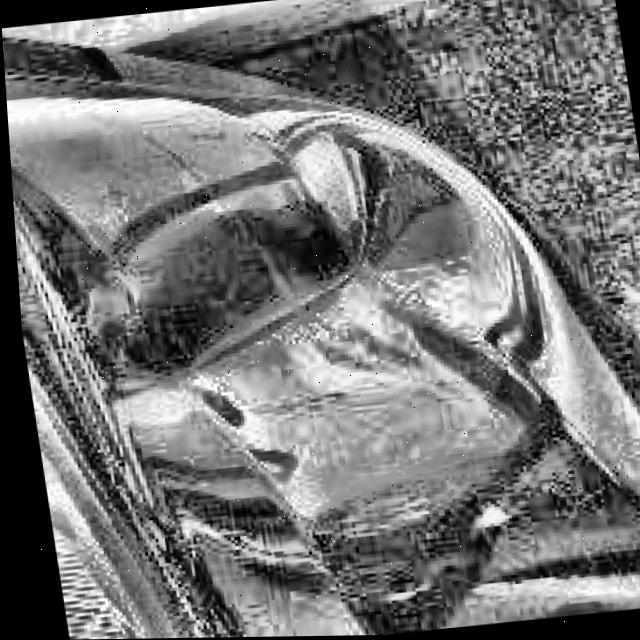bumper_dent: (56, 92, 587, 570)
